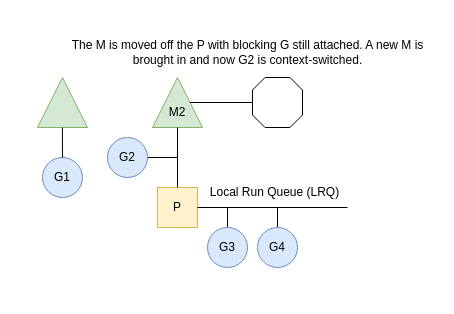
The diagram is 454 pixels wide and 314 high, and some of its shapes have lost their labels. Here are the shapes that lost their labels. From the top down, the box of each, then its label:
(36, 76, 88, 128): M1
(252, 76, 302, 128): Core
